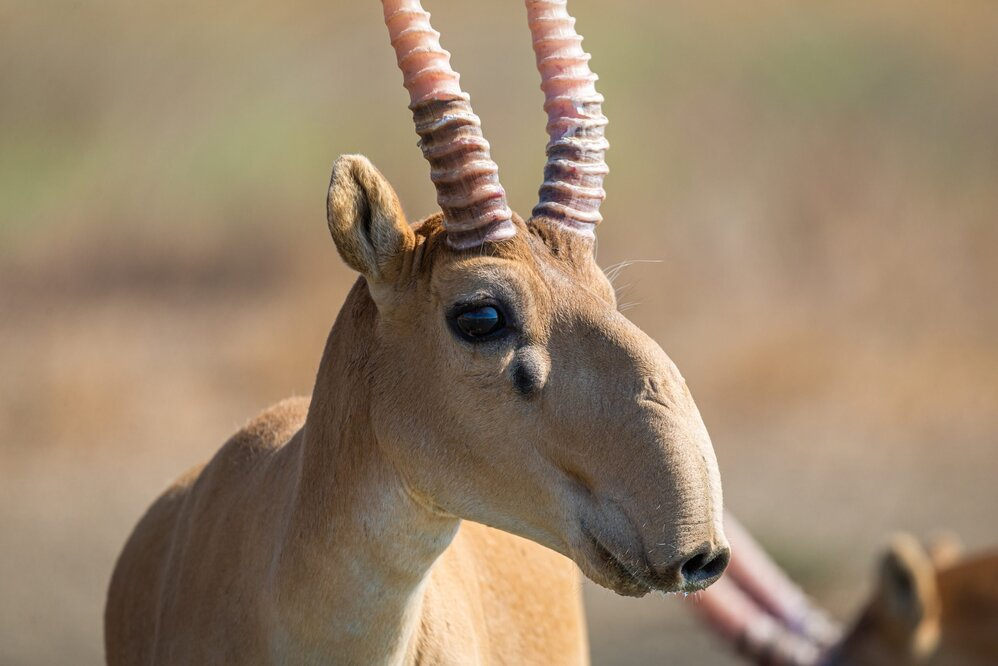saiga: (101, 1, 730, 648)
